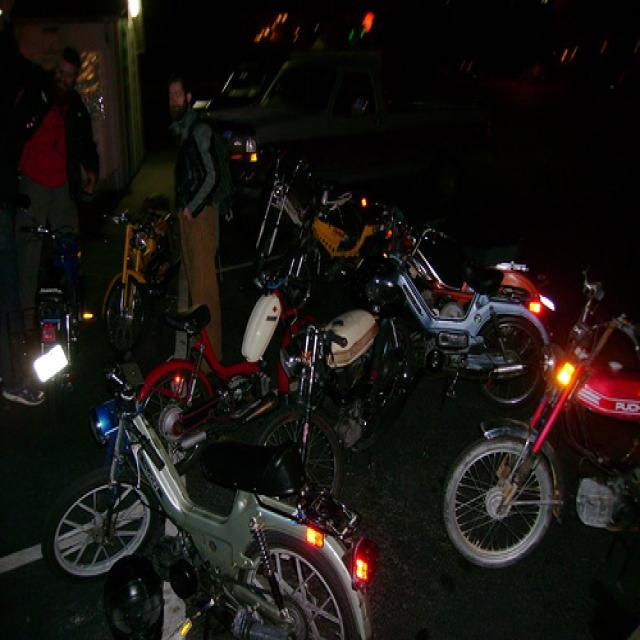Motorbike: (76, 341, 417, 640), (253, 160, 567, 419), (443, 275, 640, 556), (5, 196, 214, 418)
